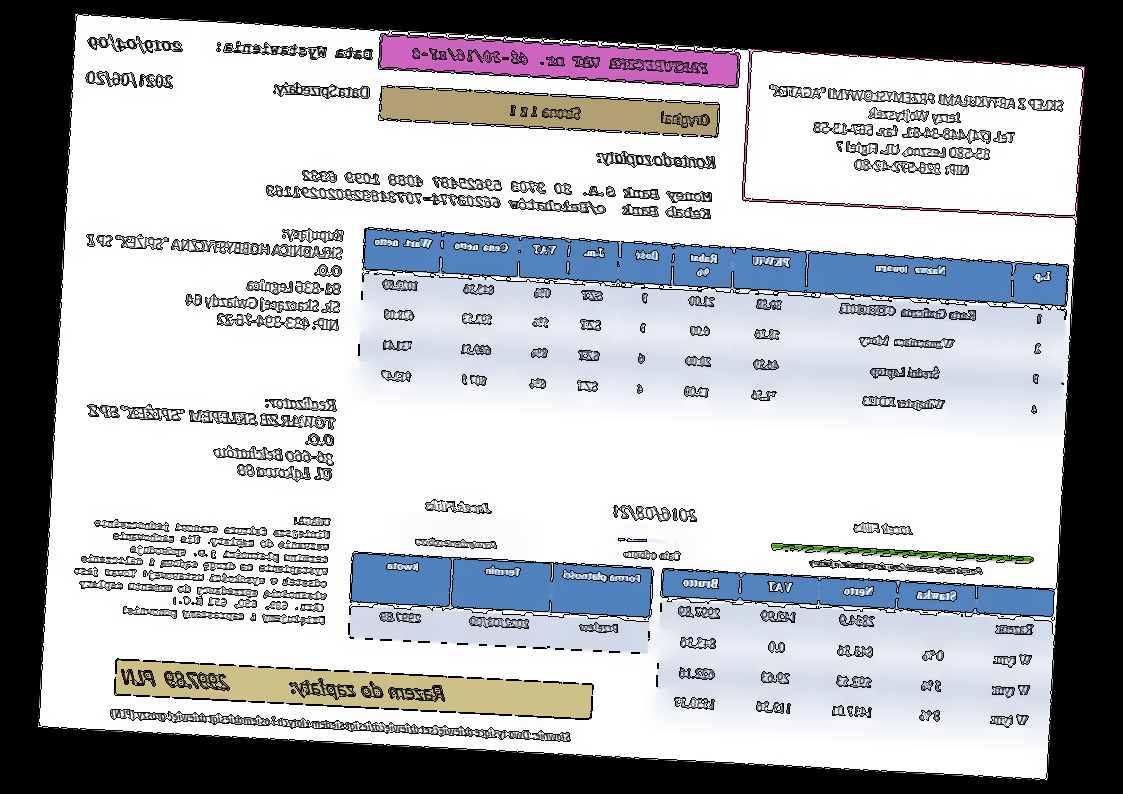Table: (354, 225, 1070, 430), (653, 566, 1057, 742), (346, 549, 655, 655)
TextBox: (77, 212, 347, 337), (69, 501, 334, 628), (762, 80, 1068, 184), (264, 164, 716, 223), (81, 383, 340, 485), (107, 704, 574, 747), (119, 664, 450, 707), (408, 44, 711, 77), (506, 99, 713, 132), (807, 554, 985, 580), (215, 36, 376, 64), (594, 145, 720, 175), (271, 77, 374, 104), (610, 501, 702, 528), (84, 33, 186, 57), (86, 68, 175, 93), (412, 533, 501, 553), (422, 494, 496, 518), (849, 518, 916, 539), (622, 546, 683, 563)
